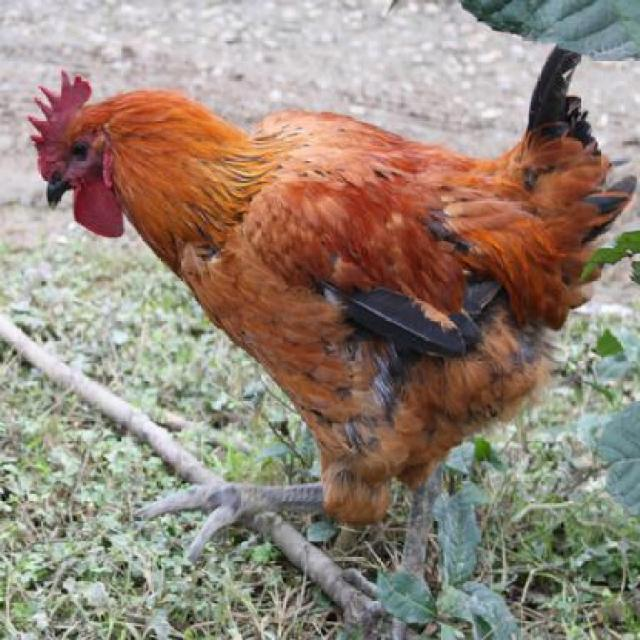hen: (23, 0, 640, 566), (403, 493, 428, 569)
